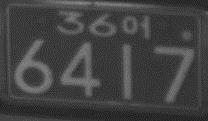1: (110, 43, 144, 101)
3: (57, 9, 84, 36)
4: (59, 39, 101, 98)
6: (14, 37, 53, 95), (88, 12, 117, 37)
7: (153, 44, 194, 104)
어: (121, 13, 150, 39)
